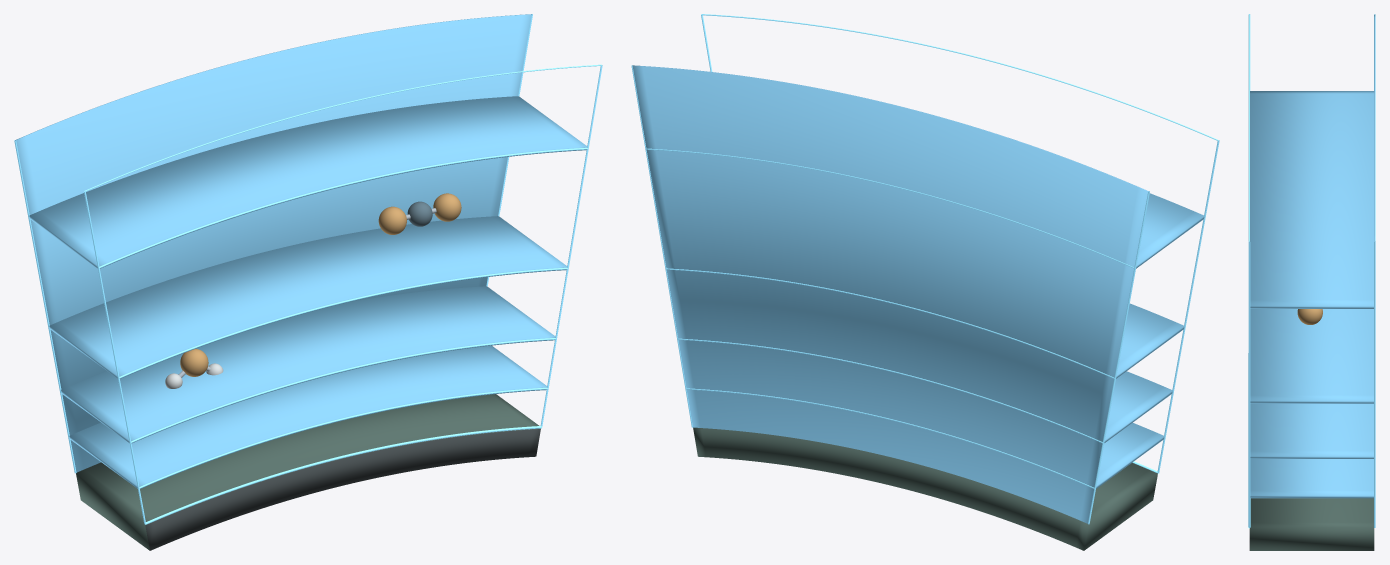
File: atmosphere.glb
3 views of the same model, side by side, from view 1: azimuth 30°, elevation 25°; view 2: azimuth 150°, elevation 25°; view 3: azimuth 270°, elevation 25° (orthographic). The views are drawn at different scales.
Visible parts, largest first — view 1: AirColumn — Diagram air layers, AirColumn — Schematic ground, AirColumn — Schematic ground cut face, AirColumn — Atmospheric diagram outlines, CarbonDioxide — Molecule warm symbol; view 2: AirColumn — Diagram air layers, AirColumn — Schematic ground, AirColumn — Atmospheric diagram outlines; view 3: AirColumn — Diagram air layers, AirColumn — Schematic ground, AirColumn — Atmospheric diagram outlines, CarbonDioxide — Molecule warm symbol.
Part boxes in pixels (box(x1,y1,x2,y2)): AirColumn — Diagram air layers: box(15, 14, 587, 488); AirColumn — Schematic ground: box(76, 394, 540, 550); AirColumn — Schematic ground cut face: box(145, 429, 540, 550); AirColumn — Atmospheric diagram outlines: box(14, 14, 602, 524); CarbonDioxide — Molecule warm symbol: box(378, 193, 461, 234); AirColumn — Diagram air layers: box(632, 65, 1204, 523); AirColumn — Schematic ground: box(693, 427, 1157, 550); AirColumn — Atmospheric diagram outlines: box(631, 14, 1219, 524); AirColumn — Diagram air layers: box(1250, 14, 1375, 498); AirColumn — Schematic ground: box(1250, 498, 1374, 550); AirColumn — Atmospheric diagram outlines: box(1248, 14, 1375, 528); CarbonDioxide — Molecule warm symbol: box(1297, 309, 1322, 324).
Size of the model in its own units: 5.63 by 4.16 by 1.33.
